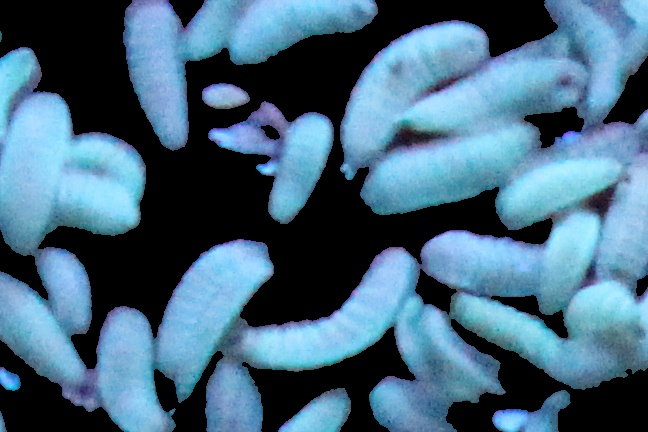larvae: (318, 21, 490, 181), (238, 238, 419, 361), (153, 244, 269, 403), (367, 114, 536, 216), (415, 211, 585, 301), (1, 255, 96, 400), (1, 79, 74, 265), (502, 125, 634, 216), (117, 5, 196, 155), (546, 2, 638, 112), (460, 287, 567, 377), (259, 102, 336, 227), (88, 306, 160, 432), (422, 63, 581, 120), (225, 1, 377, 51), (33, 240, 105, 342), (67, 122, 154, 194), (52, 177, 145, 231), (543, 214, 595, 310), (605, 171, 648, 284), (1, 36, 37, 145)
